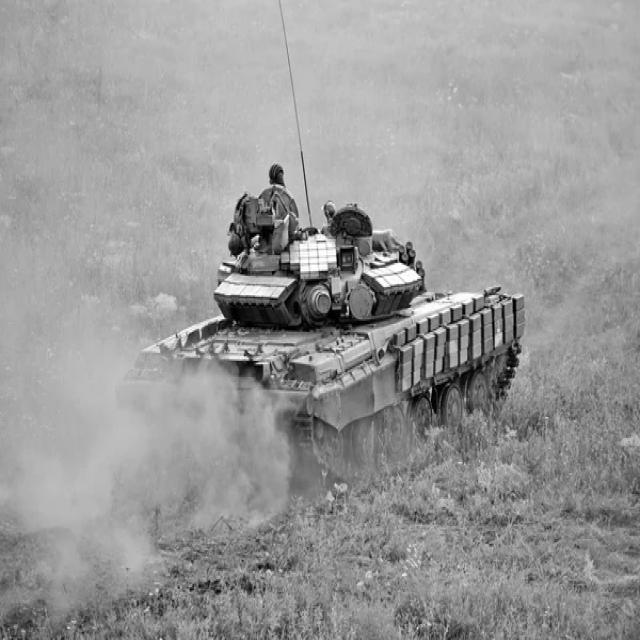Tank: (110, 161, 531, 494)
